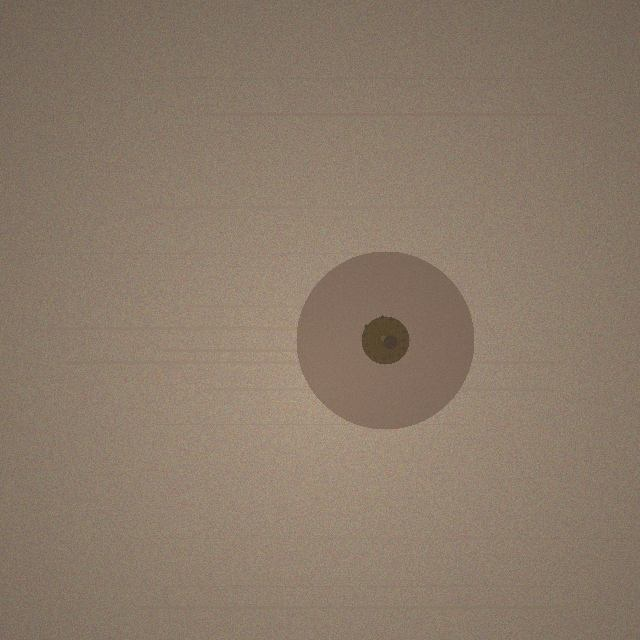cold_weld: (296, 251, 474, 429)
